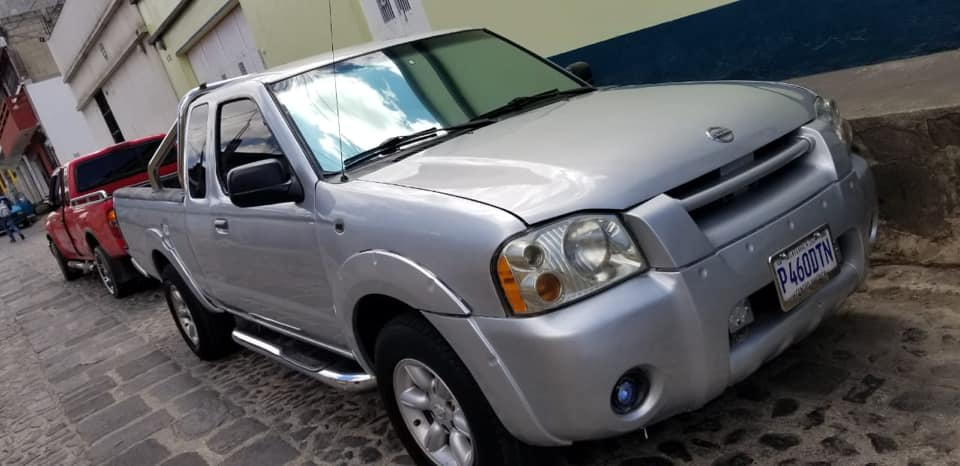pickup: (168, 35, 880, 465), (40, 132, 122, 293)
